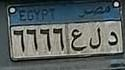6: (51, 27, 65, 51), (38, 28, 52, 52), (12, 28, 25, 53), (26, 27, 38, 53)
ain: (69, 26, 86, 52)
daal: (106, 29, 118, 48)
laam: (87, 25, 103, 50)
